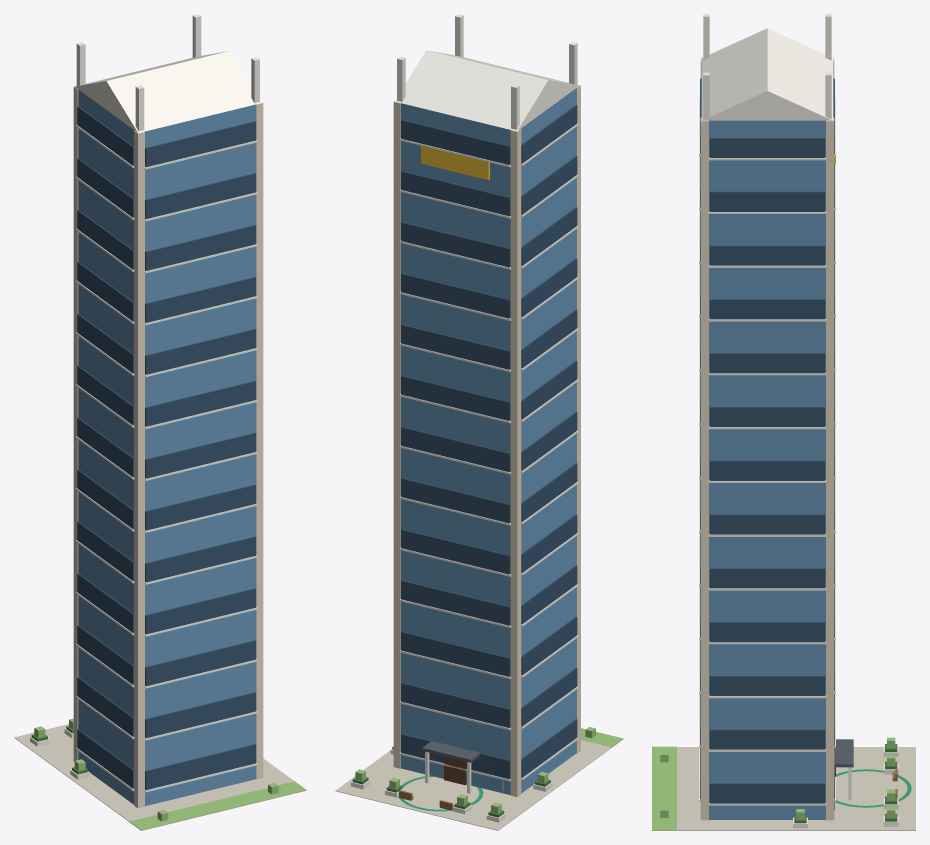
3 renders of one model, left to right at view 1: azimuth 30°, elevation 25°; view 2: azimuth 150°, elevation 25°; view 3: azimuth 270°, elevation 25°, orthographic. The views are drawn at different scales.
Visible parts, largest first — view 1: tower, window_band (×26), pier (×3), crown_cap, plaza, lawn; view 2: tower, window_band (×26), pier (×3), crown_cap, plaza, sign, storefront, canopy, door; view 3: tower, window_band (×13), pier (×2), crown_cap, plaza, lawn, canopy.
Boxes of the visible parts, box(x1,y1,x2,y2) form: tower: box(78, 89, 255, 806); window_band (×26): box(77, 106, 256, 790); pier (×3): box(73, 85, 263, 808); crown_cap: box(75, 51, 261, 132); plaza: box(14, 724, 306, 830); lawn: box(130, 781, 306, 830); tower: box(401, 88, 576, 794); window_band (×26): box(401, 105, 577, 779); pier (×3): box(393, 85, 580, 797); crown_cap: box(395, 50, 579, 131); plaza: box(335, 739, 623, 830); sign: box(421, 146, 489, 180); storefront: box(407, 744, 503, 791); canopy: box(422, 741, 479, 762); door: box(444, 756, 466, 785); tower: box(709, 120, 825, 819); window_band (×13): box(709, 138, 825, 803); pier (×2): box(700, 117, 834, 820); crown_cap: box(701, 28, 833, 120); plaza: box(652, 747, 915, 830); lawn: box(652, 746, 676, 830); canopy: box(834, 739, 853, 767).
Size of the model in its own units: 24 by 99.67 by 32.
